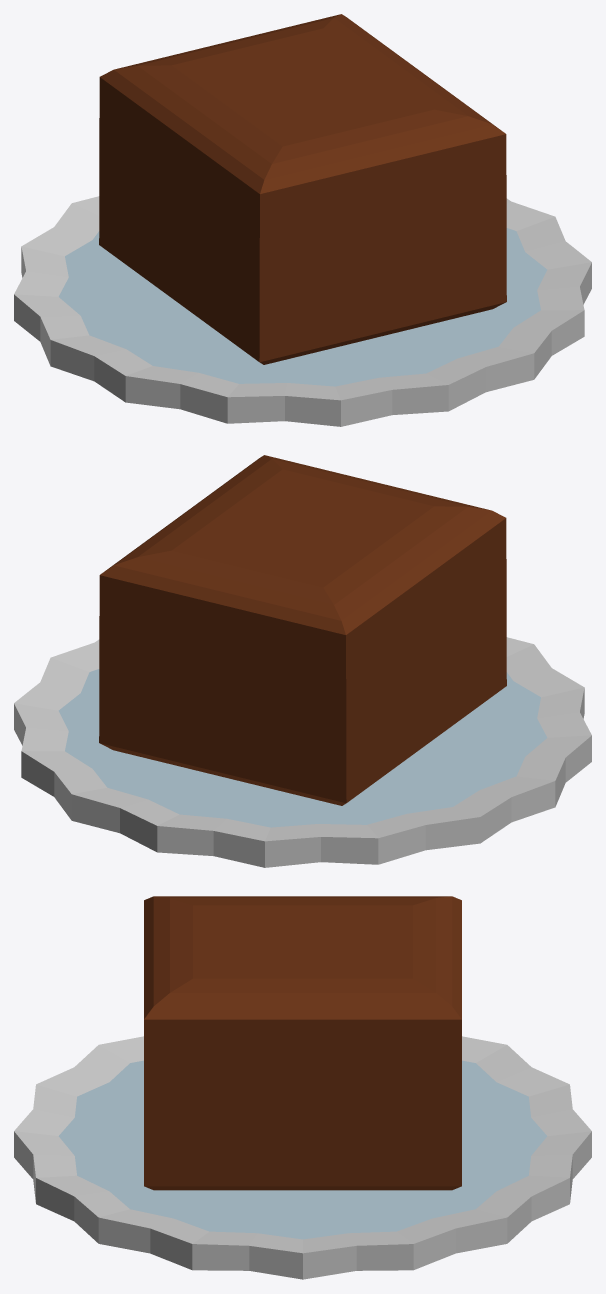
File: BrowniePortion.fbx
The picture shows the model from 3 angles, top to bottom: view 1: azimuth 30°, elevation 25°; view 2: azimuth 150°, elevation 25°; view 3: azimuth 270°, elevation 25°; orthographic projection.
Visible parts, largest first — view 1: BrowniePortion, Plate; view 2: BrowniePortion, Plate; view 3: BrowniePortion, Plate.
Part boxes in pixels (left/top/right/bottom): BrowniePortion: left=99, top=14, right=506, bottom=364; Plate: left=14, top=196, right=591, bottom=426; BrowniePortion: left=99, top=455, right=506, bottom=805; Plate: left=14, top=637, right=591, bottom=867; BrowniePortion: left=144, top=896, right=461, bottom=1190; Plate: left=14, top=1036, right=591, bottom=1279.
Size of the model in its own units: 45.71 by 18.8 by 45.71.
